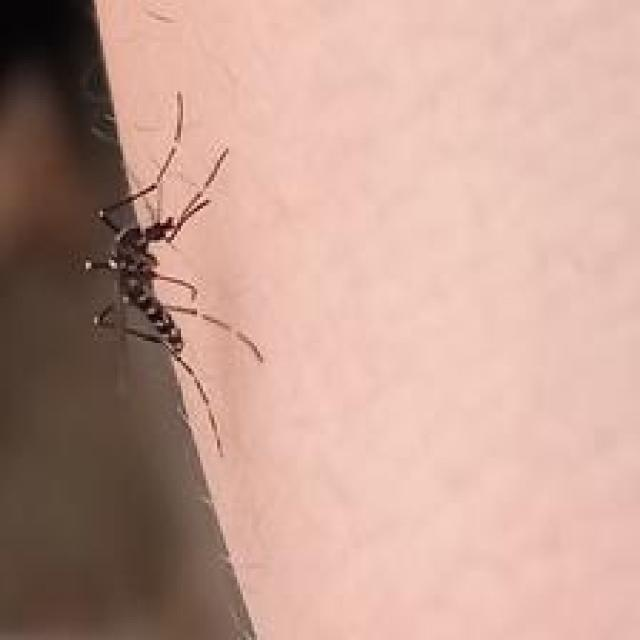Aedes albopictus: (80, 89, 266, 457)
